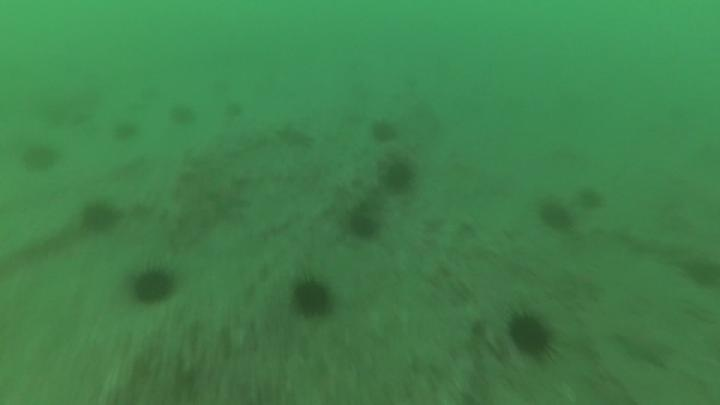echinus: (506, 310, 556, 360), (129, 264, 177, 307), (290, 276, 335, 320), (79, 199, 121, 235), (20, 142, 60, 175), (381, 159, 417, 195), (683, 256, 720, 291), (537, 199, 574, 233), (346, 210, 381, 242), (368, 117, 400, 145), (576, 185, 606, 213), (167, 102, 198, 129), (110, 119, 141, 144), (222, 99, 246, 121)
starfish: (615, 325, 677, 370), (203, 175, 252, 217), (561, 265, 606, 303), (273, 121, 316, 151)
